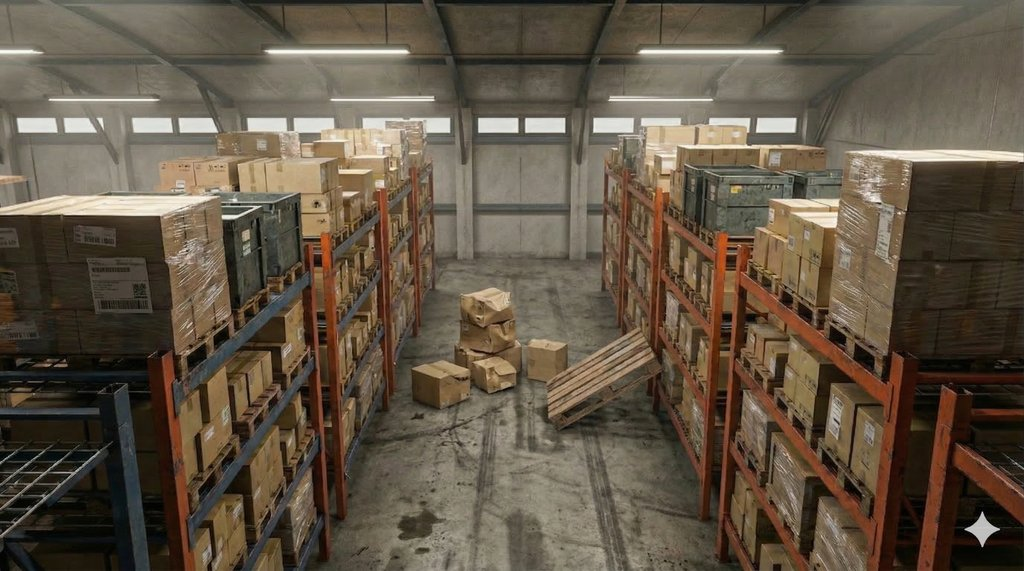empty_shelf: (0, 413, 114, 523)
obstacle: (390, 261, 697, 473)
pallet: (543, 323, 690, 430), (821, 310, 915, 390), (810, 435, 876, 520), (158, 316, 242, 373), (194, 434, 261, 504), (769, 388, 829, 446), (741, 259, 789, 296)
